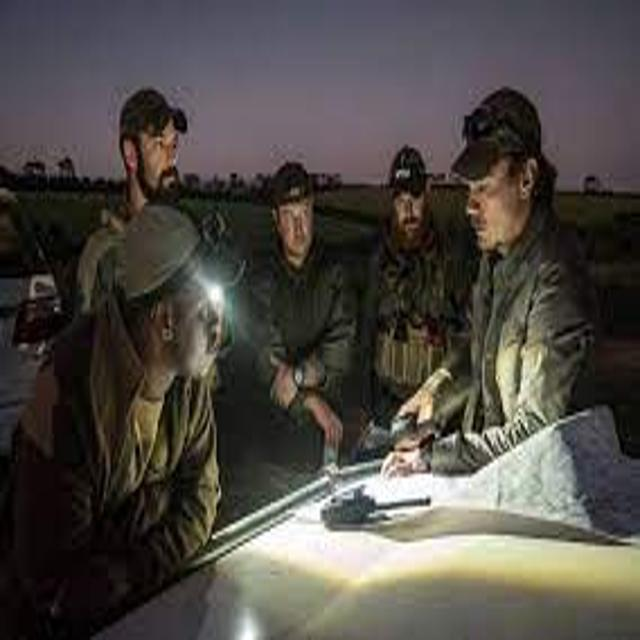poacher: (1, 173, 278, 639), (362, 63, 619, 492), (200, 134, 381, 497), (30, 65, 257, 345), (329, 123, 493, 479)
